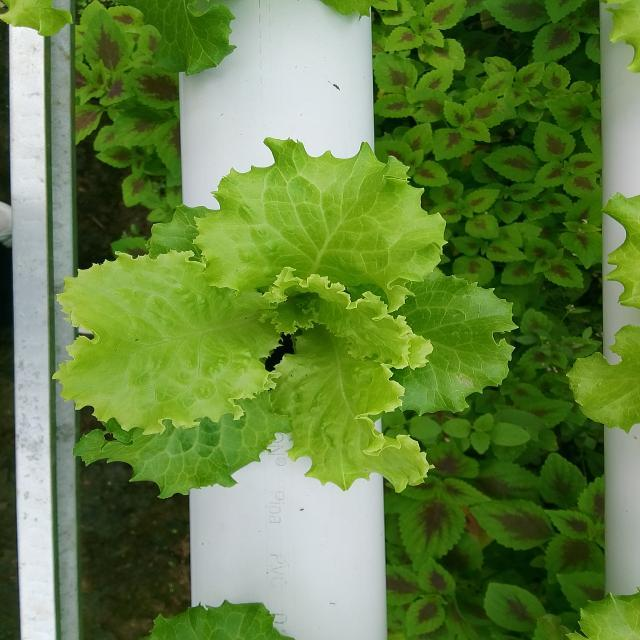Baby: (55, 138, 515, 494)
